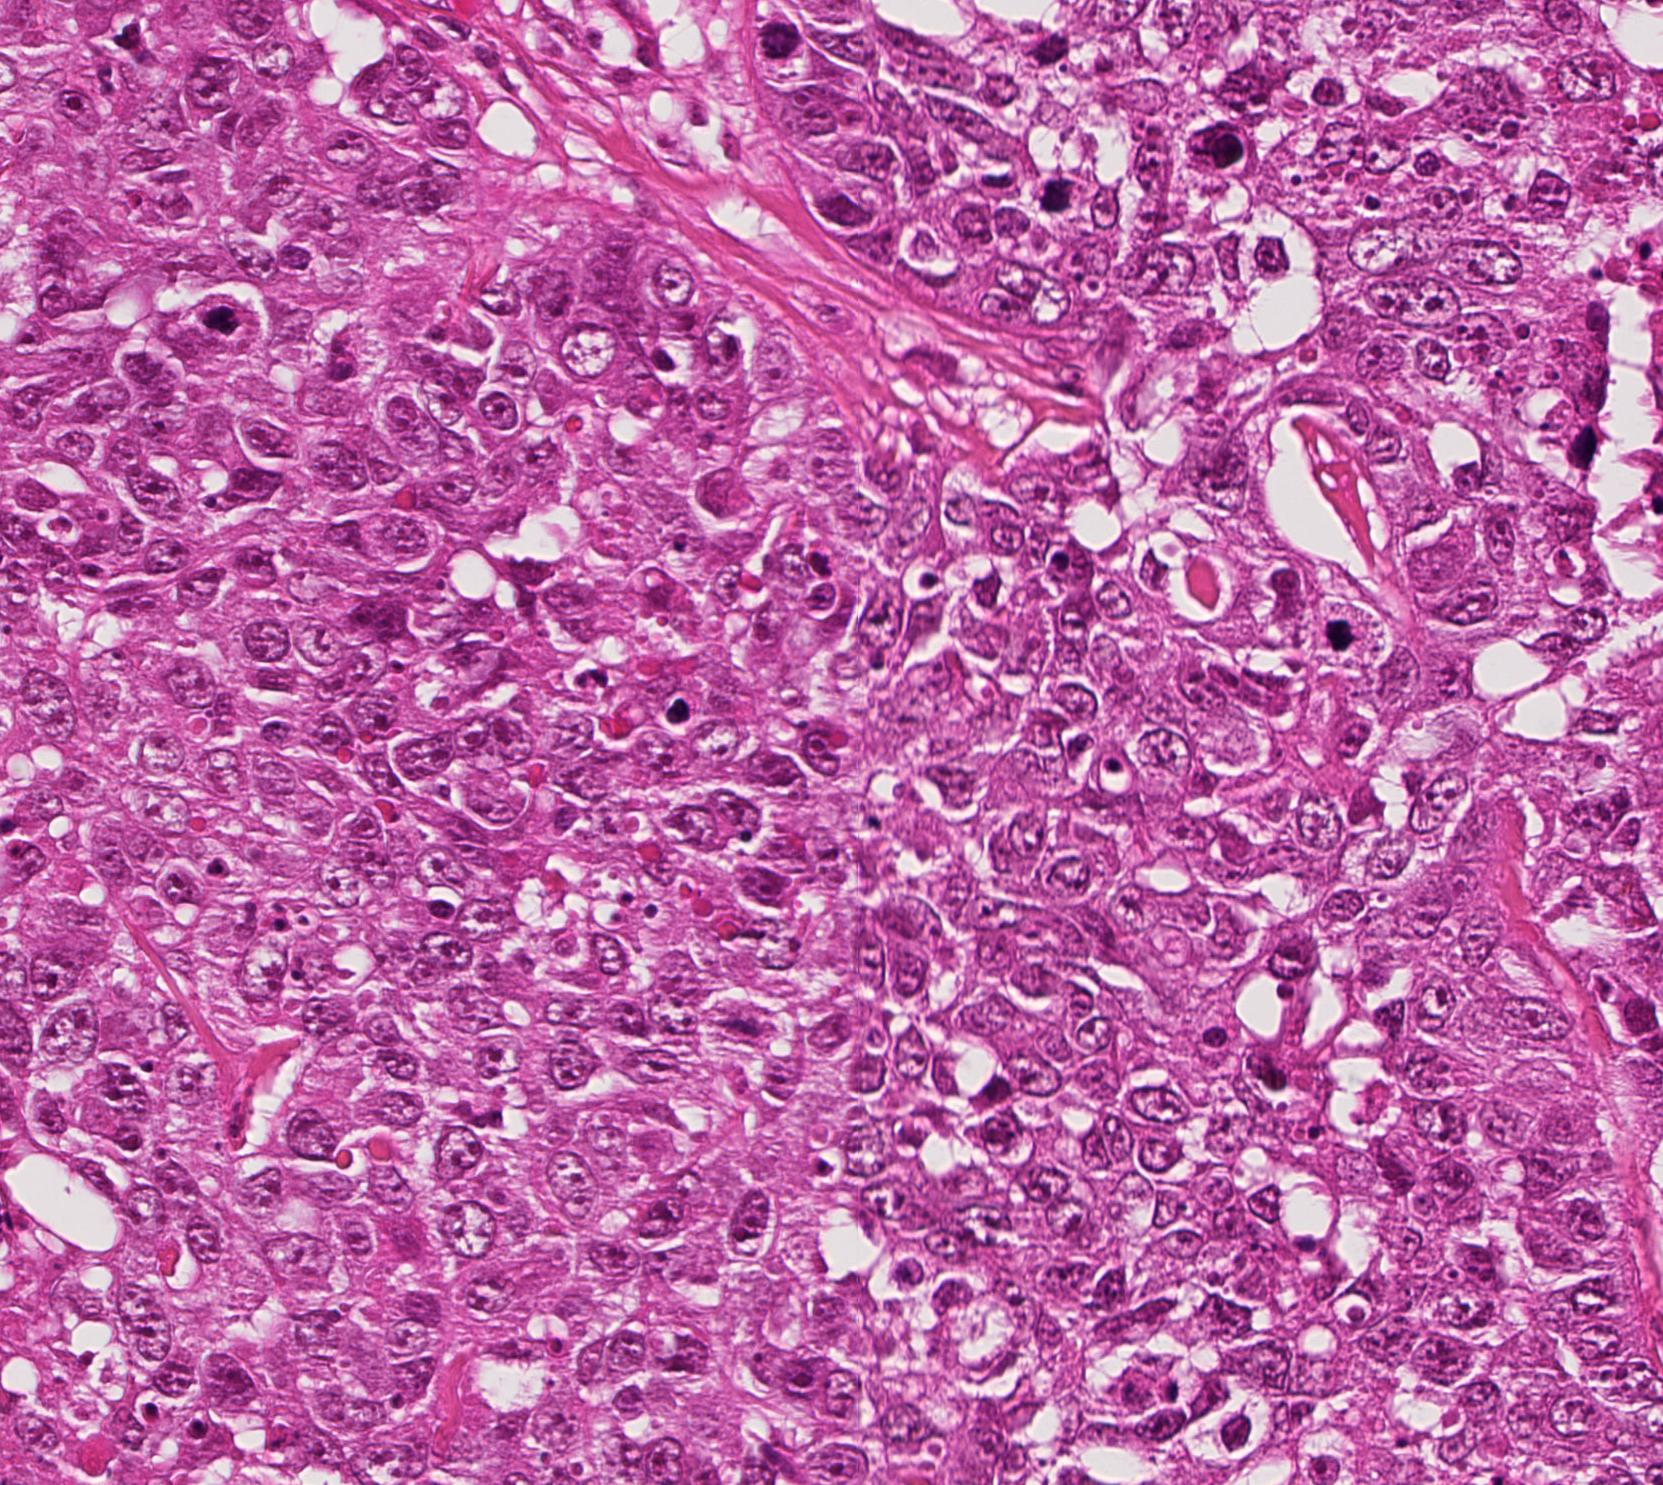mitosis: (1310, 602, 1371, 662), (1022, 156, 1082, 216), (1024, 16, 1082, 76)
